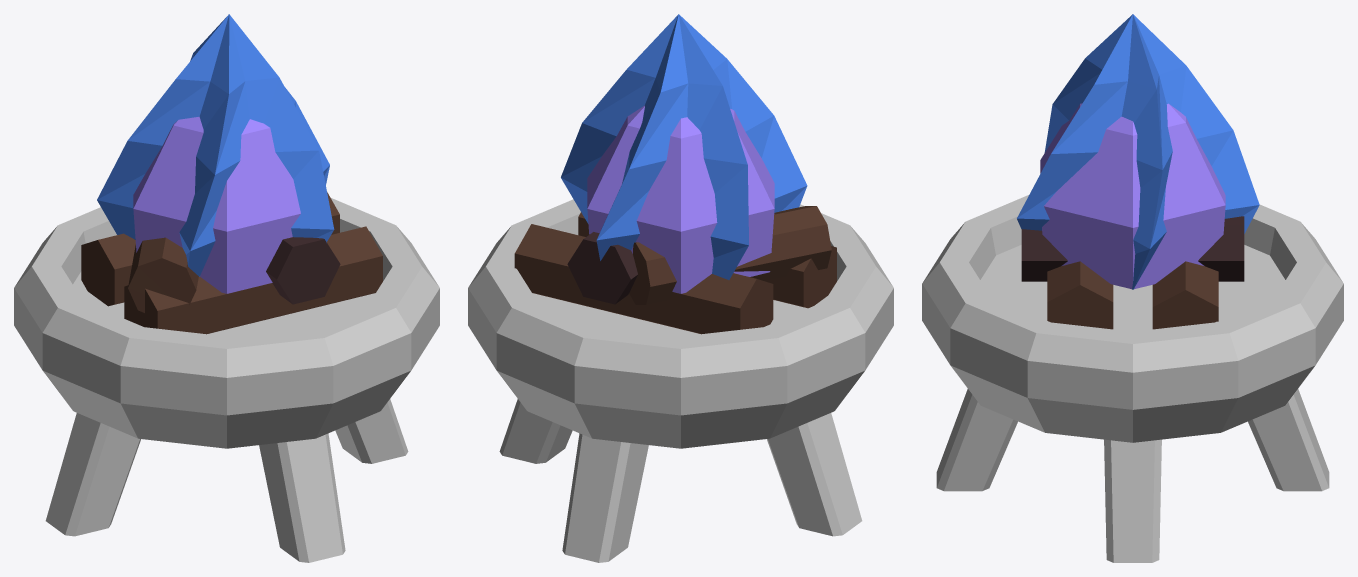
File: darklight_brazier.obj
The picture shows the model from 3 angles, left to right: view 1: azimuth 30°, elevation 25°; view 2: azimuth 150°, elevation 25°; view 3: azimuth 270°, elevation 25°; orthographic projection.
Parts seen in each view (by area): view 1: darklight_brazier_0, darklight_brazier_9, darklight_brazier_10, darklight_brazier_5, darklight_brazier_2, darklight_brazier_3, darklight_brazier_7, darklight_brazier_8, darklight_brazier_6, darklight_brazier_1; view 2: darklight_brazier_0, darklight_brazier_9, darklight_brazier_10, darklight_brazier_6, darklight_brazier_4, darklight_brazier_3, darklight_brazier_8, darklight_brazier_7, darklight_brazier_1, darklight_brazier_5; view 3: darklight_brazier_0, darklight_brazier_9, darklight_brazier_10, darklight_brazier_1, darklight_brazier_2, darklight_brazier_4, darklight_brazier_6, darklight_brazier_5, darklight_brazier_7.
Part boxes in pixels (x1,y1,x2,y2): darklight_brazier_0: (14, 198, 439, 448); darklight_brazier_9: (97, 14, 334, 276); darklight_brazier_10: (133, 116, 300, 293); darklight_brazier_5: (124, 226, 382, 334); darklight_brazier_2: (259, 433, 345, 562); darklight_brazier_3: (45, 413, 140, 536); darklight_brazier_7: (266, 237, 340, 304); darklight_brazier_8: (128, 237, 198, 312); darklight_brazier_6: (81, 192, 339, 306); darklight_brazier_1: (335, 399, 408, 463); darklight_brazier_0: (468, 199, 893, 448); darklight_brazier_9: (561, 14, 807, 279); darklight_brazier_10: (587, 105, 774, 293); darklight_brazier_6: (514, 224, 773, 334); darklight_brazier_4: (562, 433, 648, 562); darklight_brazier_3: (767, 413, 862, 536); darklight_brazier_8: (629, 206, 831, 304); darklight_brazier_7: (567, 232, 637, 304); darklight_brazier_1: (499, 399, 572, 463); darklight_brazier_5: (578, 212, 836, 308); darklight_brazier_0: (922, 195, 1343, 442); darklight_brazier_9: (1017, 14, 1259, 289); darklight_brazier_10: (1040, 103, 1225, 289); darklight_brazier_1: (1104, 439, 1161, 562); darklight_brazier_2: (936, 389, 1017, 491); darklight_brazier_4: (1248, 389, 1329, 491); darklight_brazier_6: (1152, 261, 1218, 329); darklight_brazier_5: (1047, 261, 1113, 329); darklight_brazier_7: (1021, 216, 1244, 281).
Size of the model in its own units: 0.72 by 0.88 by 0.72.
